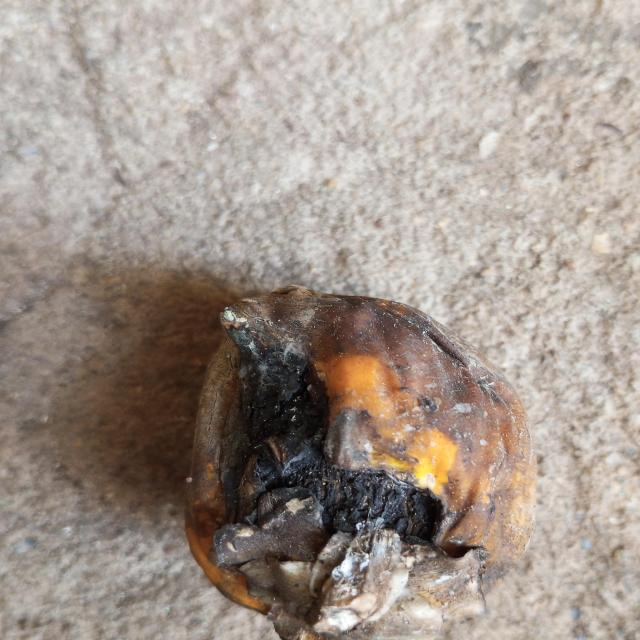damaged: (186, 286, 535, 640)
